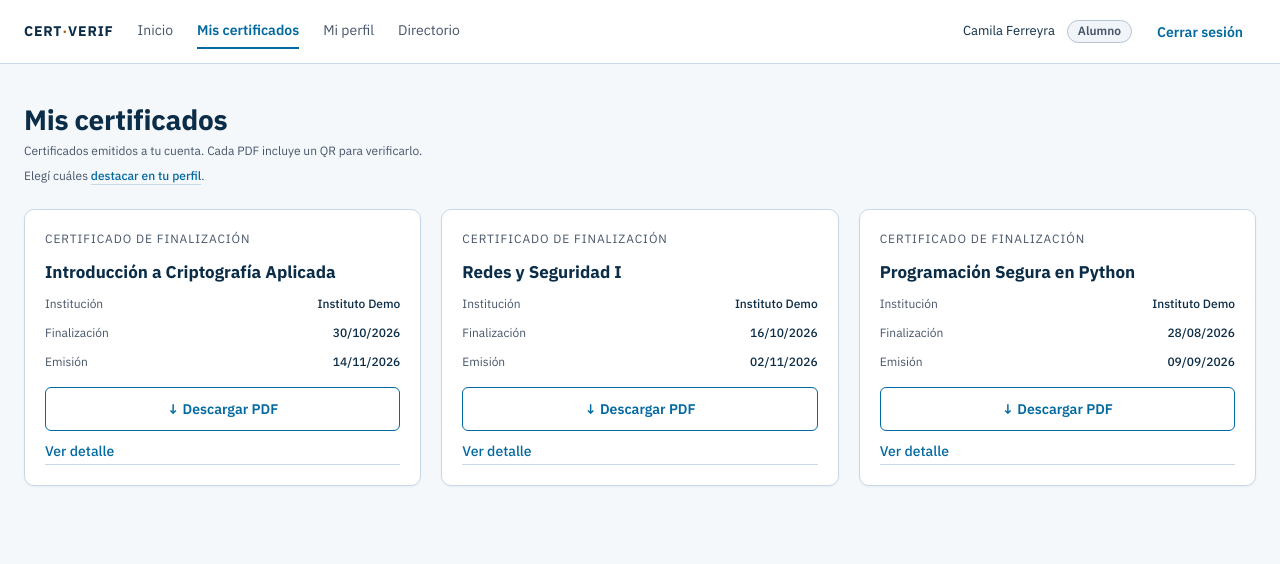
descarga › fallo: error en esa tarjeta, las otras y la lista siguen, y se puede reintentar
This screenshot has width=1280, height=564.
Expected: the heading "Introducción a Criptografía Aplicada" is shown, top-left (45, 261), bottom-right (336, 283)
Click the button "↓ Descargar PDF" below "09/09/2026": (1057, 409) top-left (880, 387), bottom-right (1235, 431)
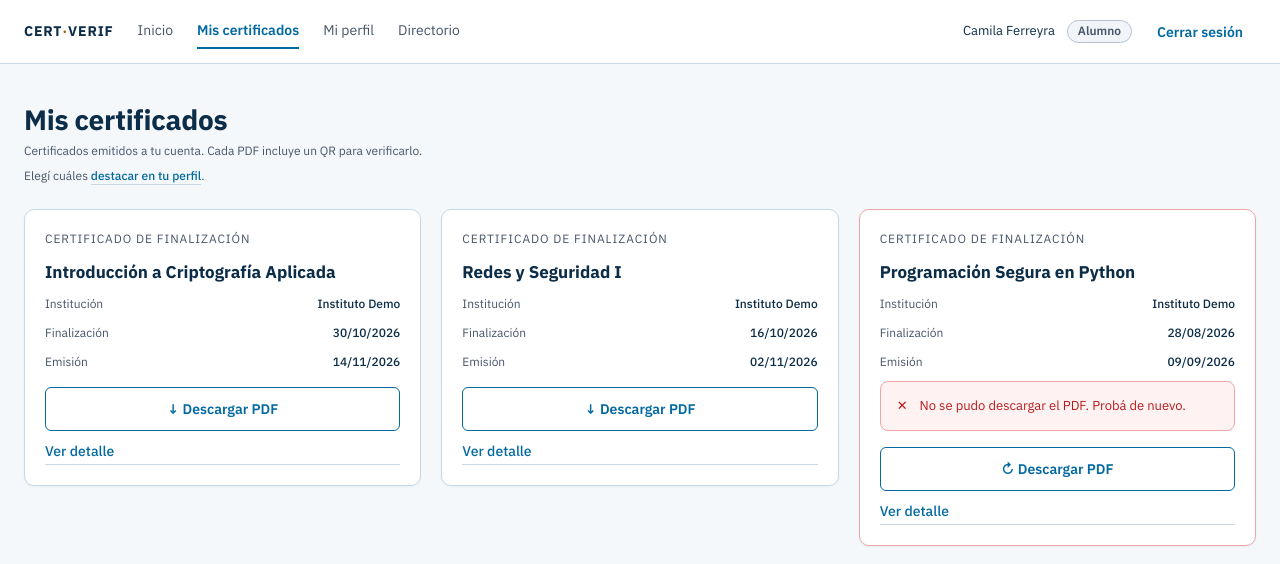
Now the message shows "No se pudo descargar el PDF. Probá de nuevo.", box top-left (920, 397), bottom-right (1186, 414)
Now the number of messages is 1, box top-left (880, 381), bottom-right (1235, 431)
Now the button "↻ Descargar PDF" is shown
Click the button "↻ Descargar PDF": (1057, 469) top-left (880, 447), bottom-right (1235, 491)
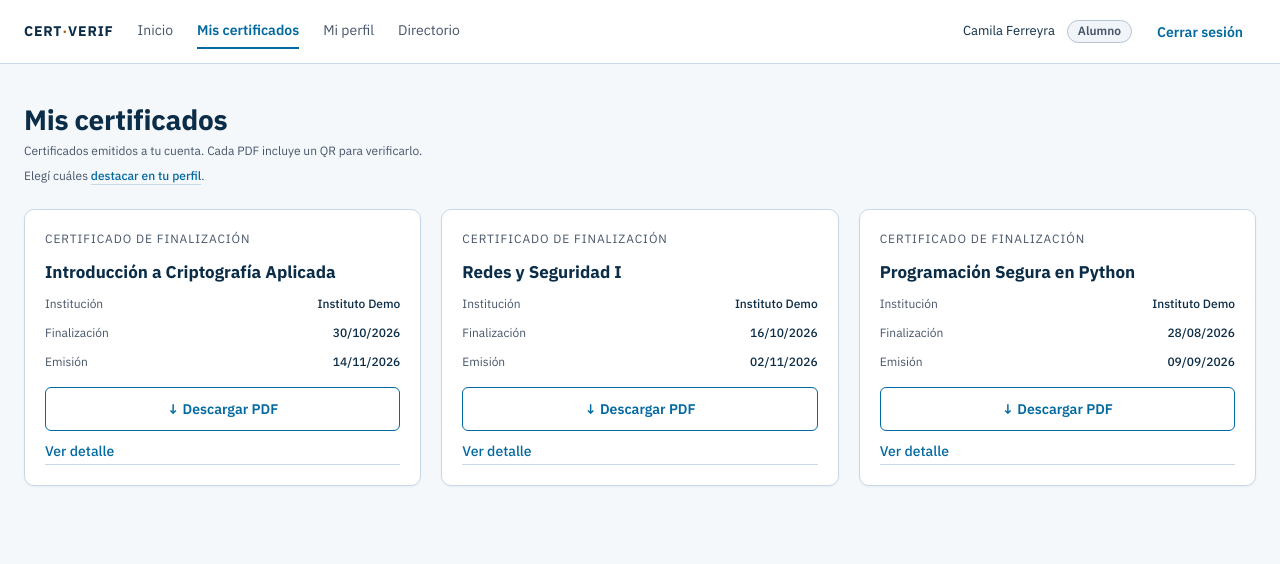
Now the message "✕ No se pudo descargar el PDF. Probá de nuevo." is gone
